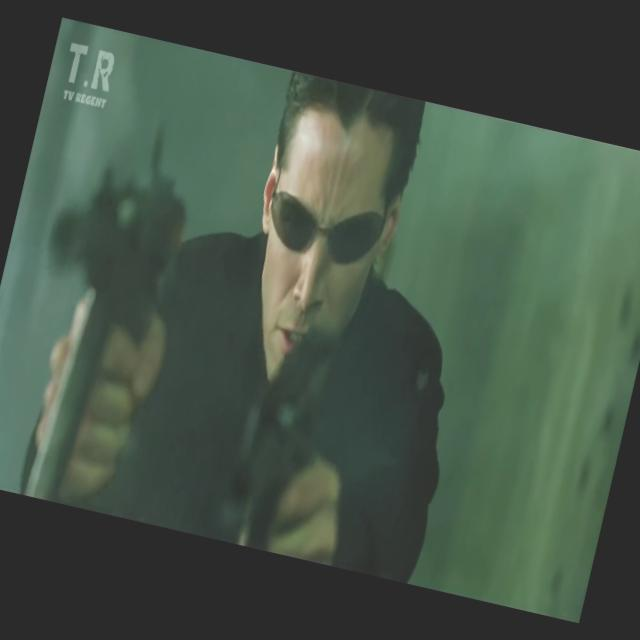long weapon: (0, 85, 248, 543), (186, 296, 386, 608)
